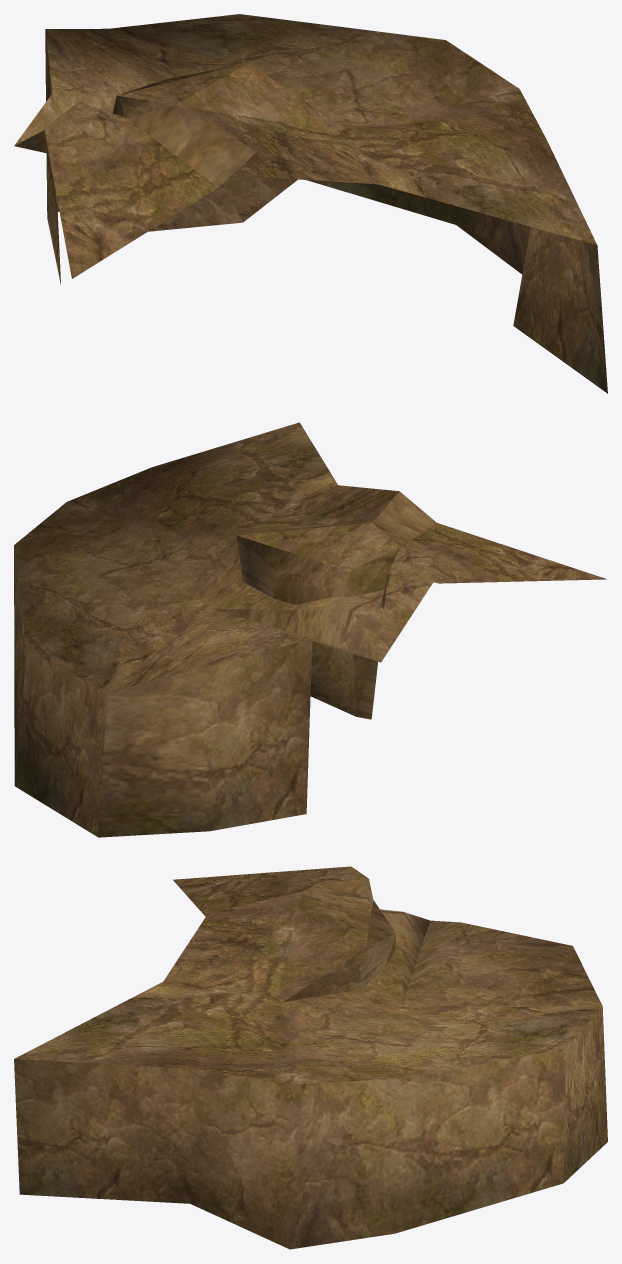
File: S_Rock_Yellow002_1.FBX
3 views of the same model, one above another, from view 1: azimuth 30°, elevation 25°; view 2: azimuth 150°, elevation 25°; view 3: azimuth 270°, elevation 25° (orthographic). The views are drawn at different scales.
Parts seen in each view (by area): view 1: S_Rock_Yellow002_1; view 2: S_Rock_Yellow002_1; view 3: S_Rock_Yellow002_1.
Part boxes in pixels (x1=…): S_Rock_Yellow002_1: x1=14, y1=14, x2=607, y2=393; S_Rock_Yellow002_1: x1=14, y1=422, x2=606, y2=837; S_Rock_Yellow002_1: x1=14, y1=866, x2=607, y2=1249.
Bounding box in the file's own units: 390 × 452 × 181.
